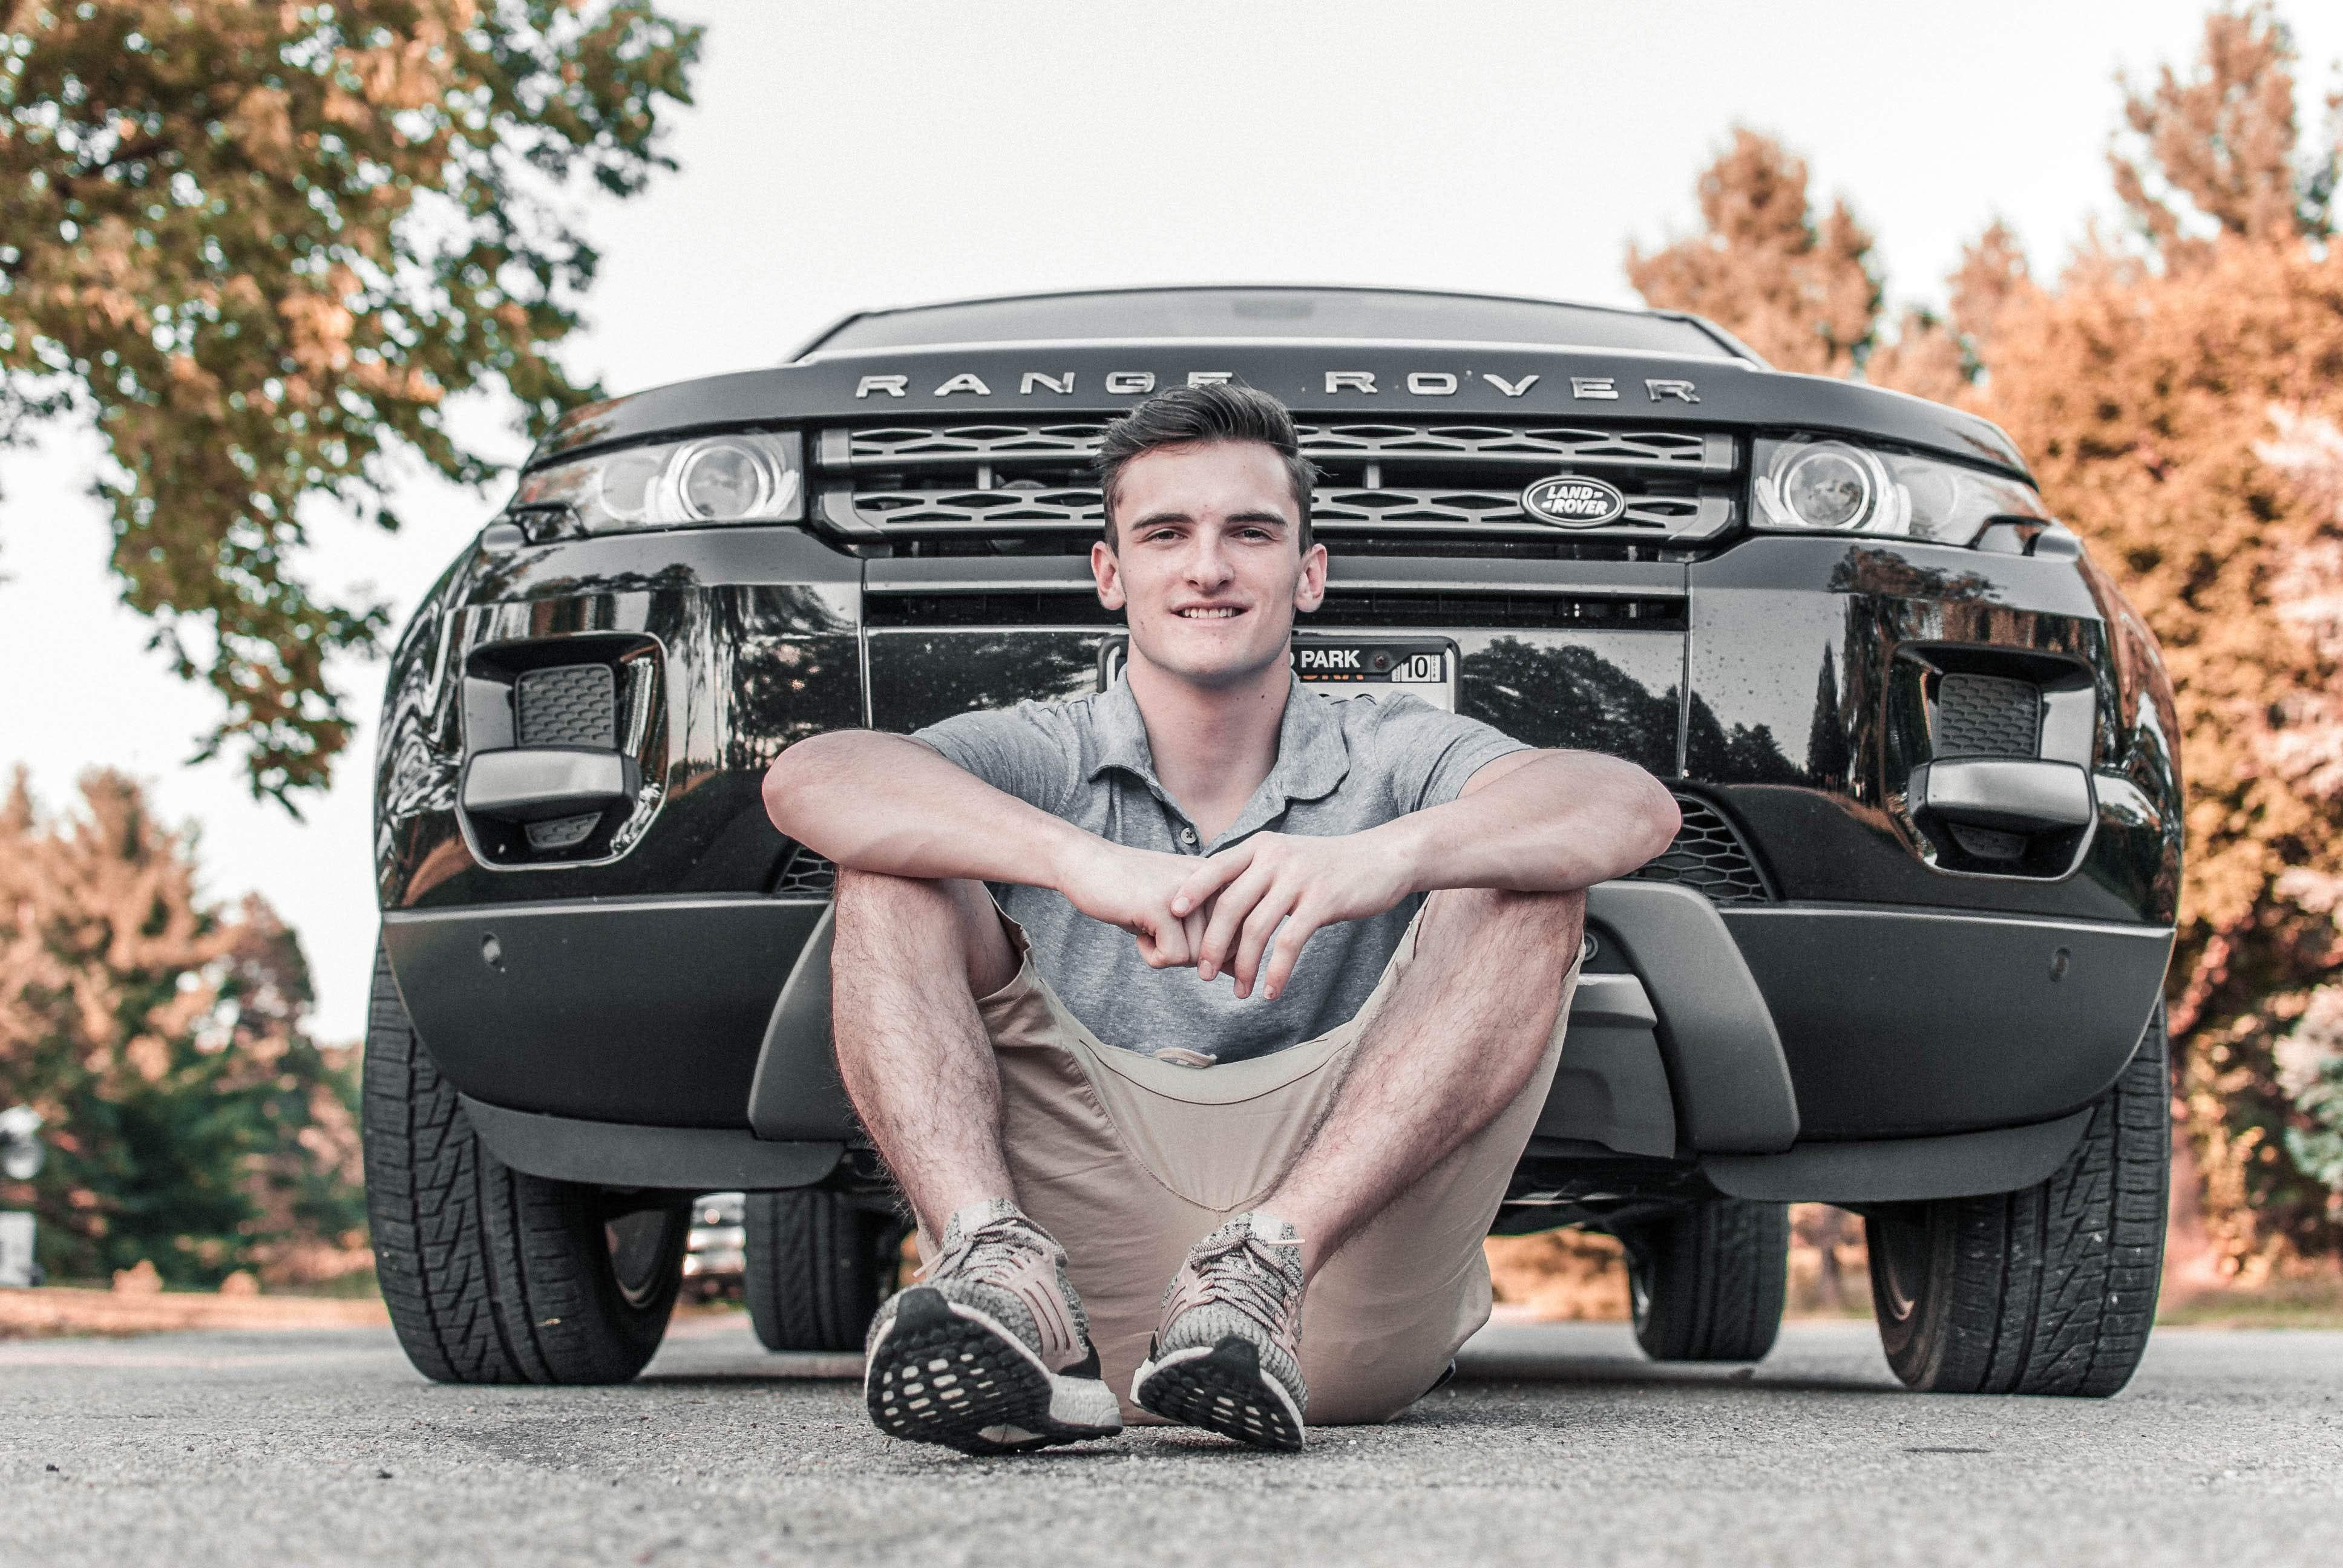range rover: (829, 339, 1722, 436)
